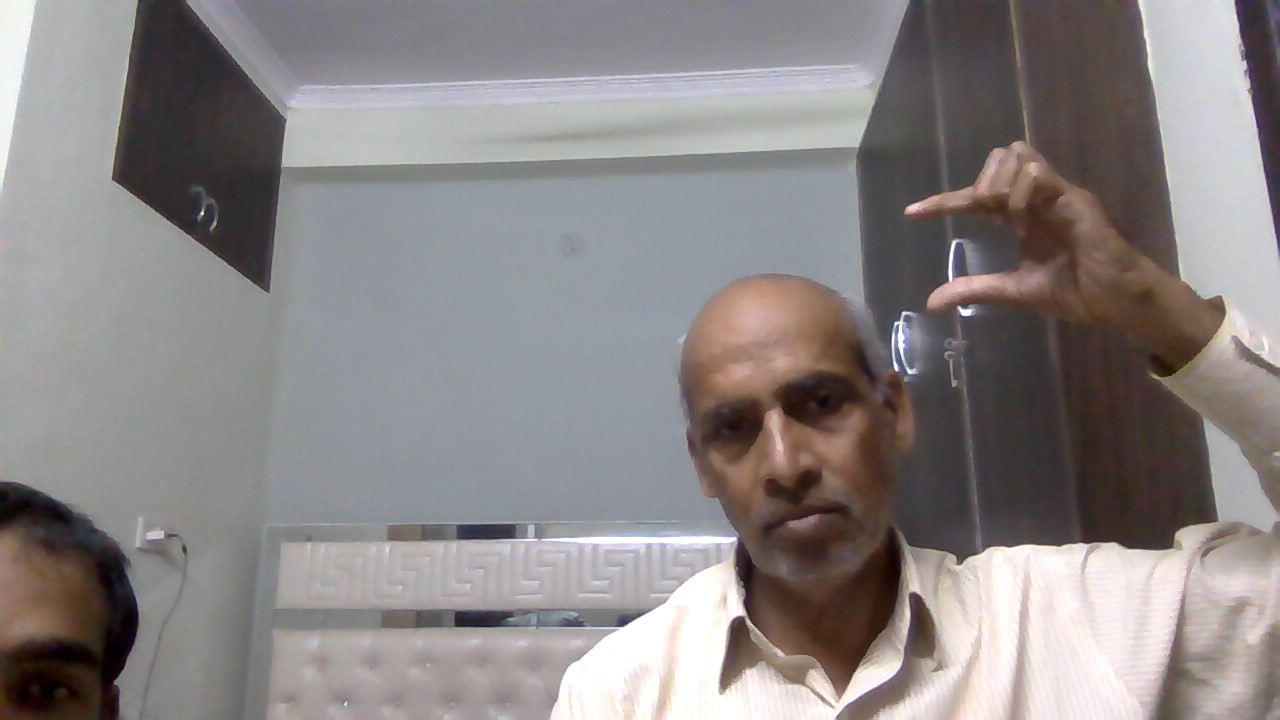Paste: (899, 133, 1140, 337)
